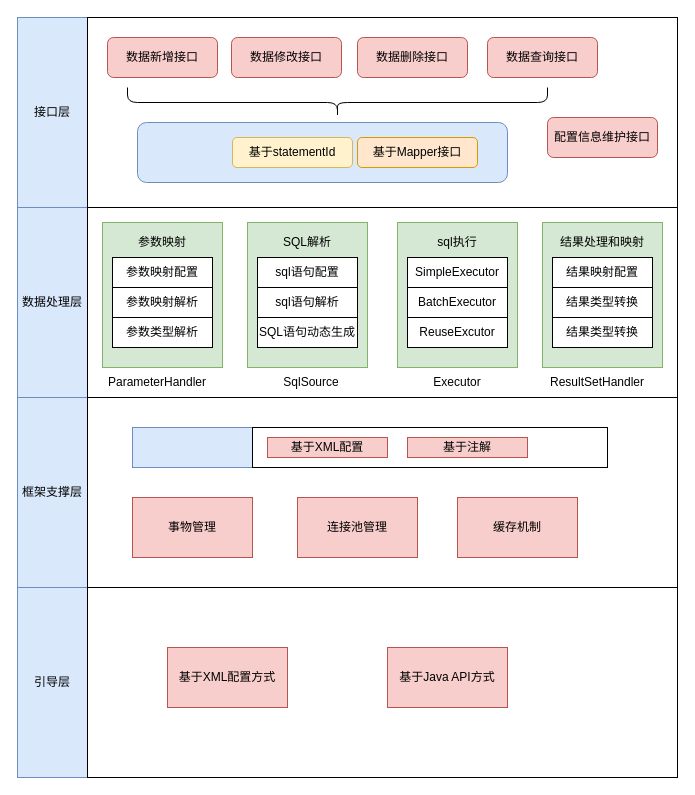
Some shapes in this 695 by 795 pixel diagram are drawn without their labels. Each missing label, with the box of its shape:
sql语句配置方式: (132, 426, 252, 468)
接口调用方式: (136, 122, 508, 182)
